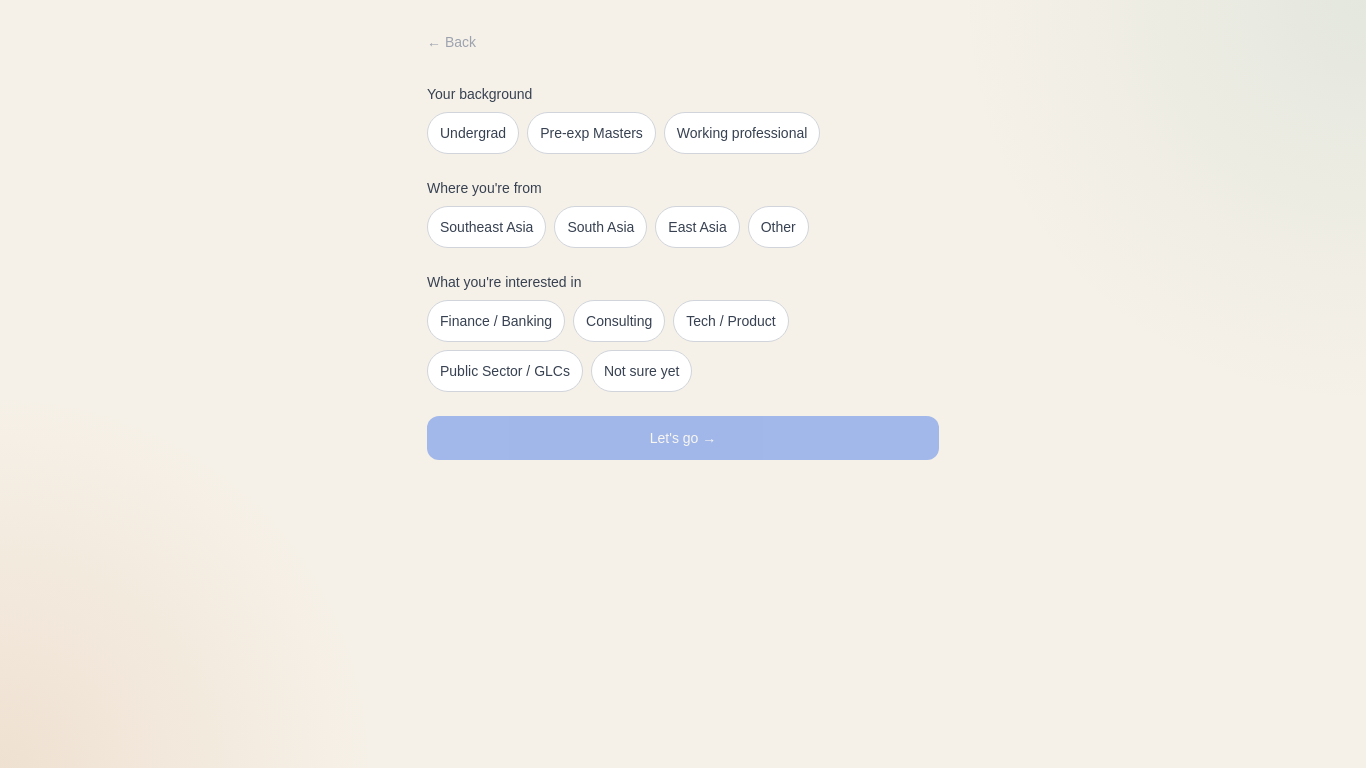
Test: IntakeFlow › submit button becomes enabled after selecting interest
This screenshot has width=1366, height=768.
Click the button "Finance / Banking" at (496,321), box [427, 300, 565, 342]
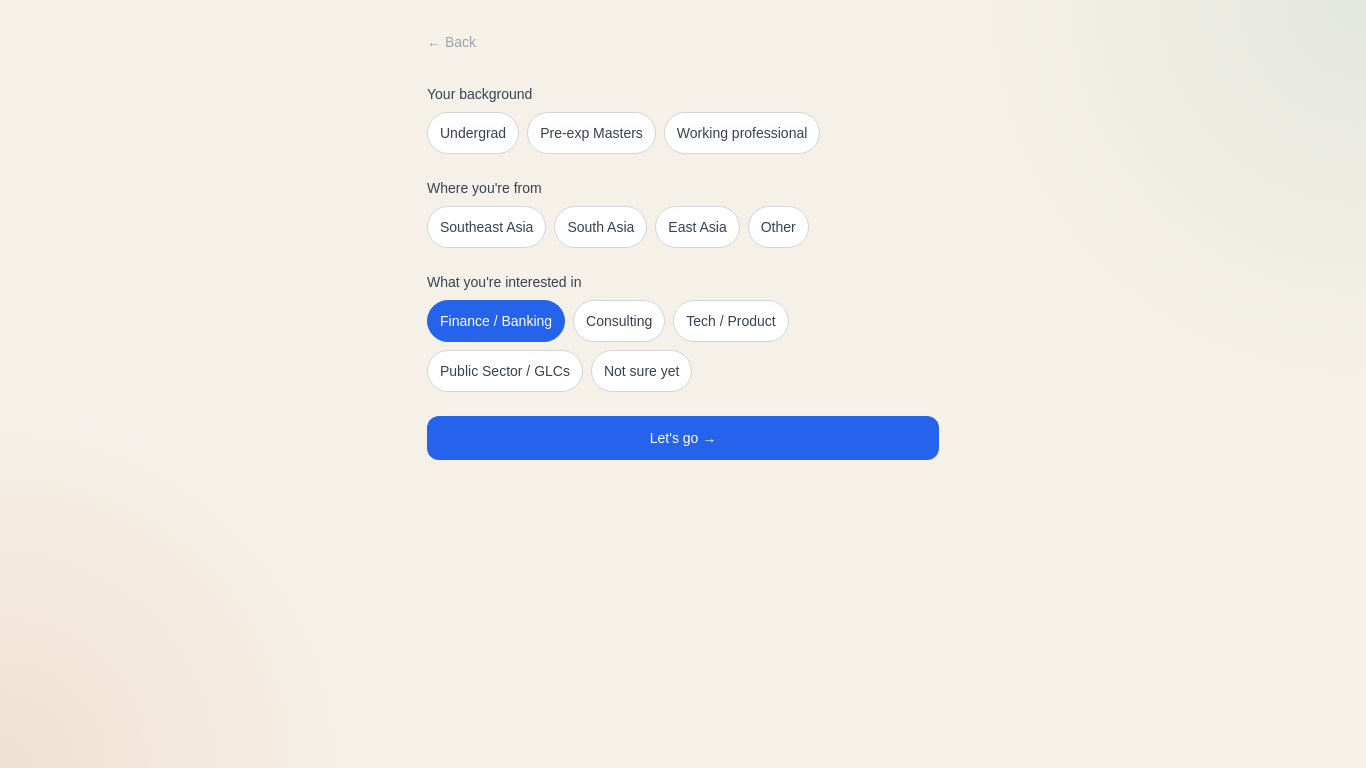
Now the button "Let's go →" is enabled, box [427, 416, 939, 460]
